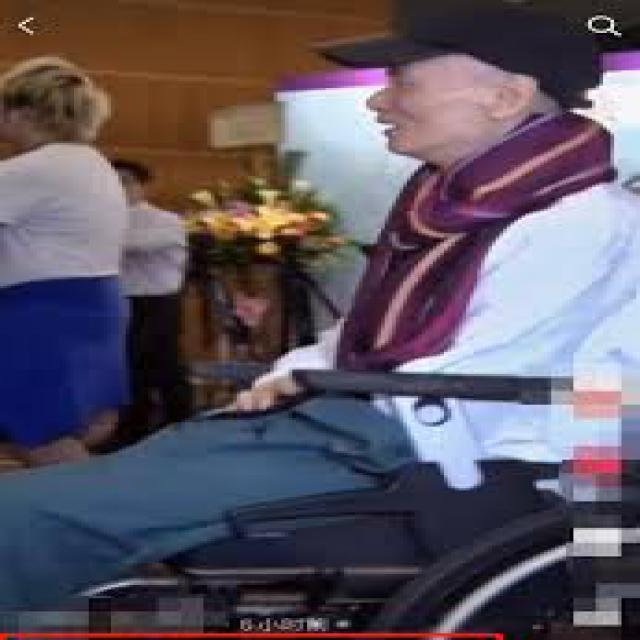wheelchairs: (70, 310, 636, 634)
